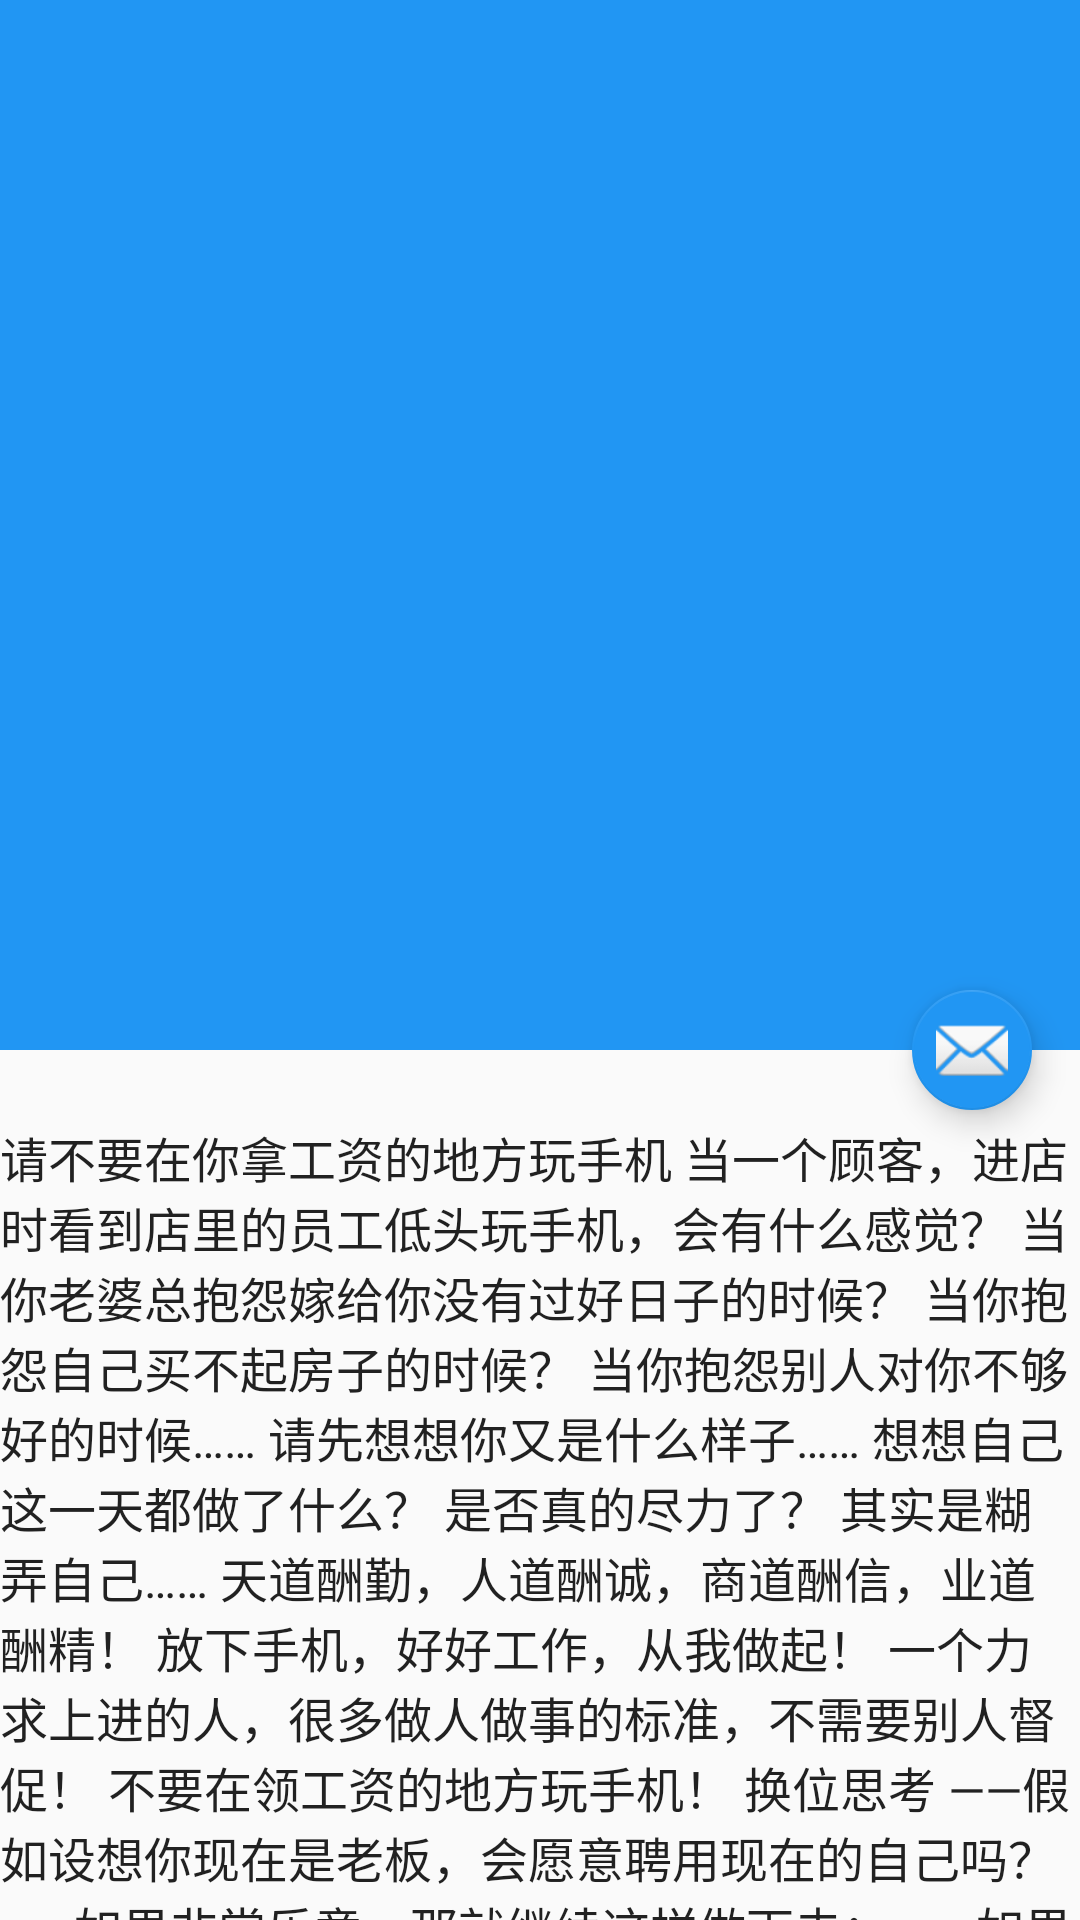

Icons on this 1080px x 1920px Android screen, each with the point to tap as point (x, y):
email: point (972, 1050)
